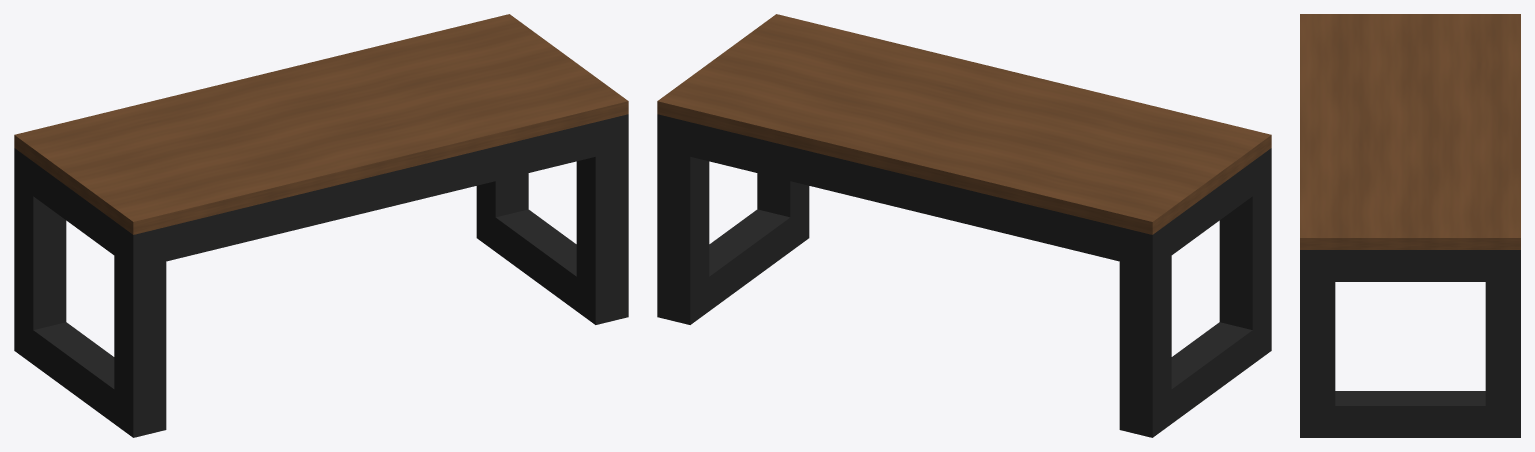
File: mesa-living-nord-nogal-negro.glb
3 renders of one model, left to right at view 1: azimuth 30°, elevation 25°; view 2: azimuth 150°, elevation 25°; view 3: azimuth 270°, elevation 25°, orthographic. The views are drawn at different scales.
Visible parts, largest first — view 1: Tapa de madera maciza 120 x 50 cm, Pata recta de hierro 80 x 80 mm (×4), Larguero longitudinal superior recto, Travesaño inferior recto (×2), Travesaño superior recto; view 2: Tapa de madera maciza 120 x 50 cm, Pata recta de hierro 80 x 80 mm (×4), Larguero longitudinal superior recto, Travesaño inferior recto (×2), Travesaño superior recto; view 3: Tapa de madera maciza 120 x 50 cm, Pata recta de hierro 80 x 80 mm (×2), Travesaño inferior recto, Travesaño superior recto.
Part boxes in pixels (box(x1,y1,x2,y2)): Tapa de madera maciza 120 x 50 cm: box(14, 14, 628, 234); Pata recta de hierro 80 x 80 mm (×4): box(14, 114, 628, 437); Larguero longitudinal superior recto: box(166, 122, 595, 261); Travesaño inferior recto (×2): box(33, 209, 576, 423); Travesaño superior recto: box(33, 162, 114, 254); Tapa de madera maciza 120 x 50 cm: box(657, 14, 1271, 234); Pata recta de hierro 80 x 80 mm (×4): box(657, 114, 1271, 437); Larguero longitudinal superior recto: box(690, 122, 1119, 261); Travesaño inferior recto (×2): box(709, 209, 1252, 423); Travesaño superior recto: box(1171, 162, 1252, 254); Tapa de madera maciza 120 x 50 cm: box(1300, 14, 1520, 249); Pata recta de hierro 80 x 80 mm (×2): box(1300, 250, 1520, 437); Travesaño inferior recto: box(1335, 391, 1485, 437); Travesaño superior recto: box(1335, 250, 1485, 281).
Bounding box in the file's own units: 1.2 × 0.5 × 0.5.
2 materials, 1 textured.
